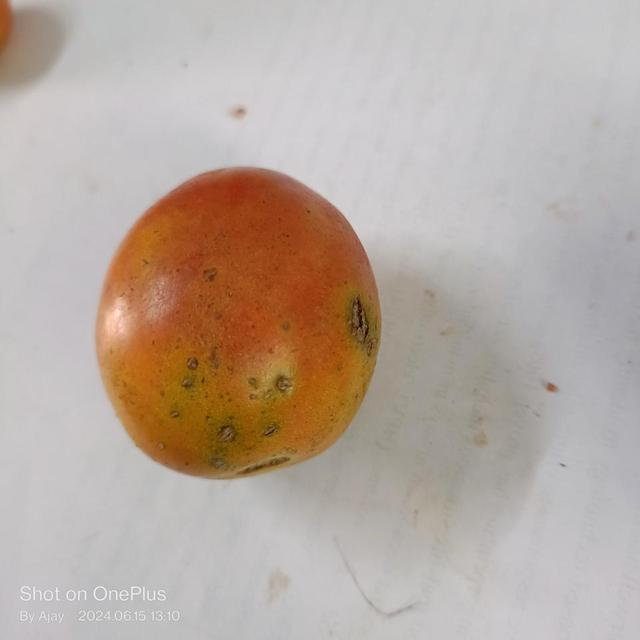Bacterial Spot Fruit: (17, 14, 240, 287)
